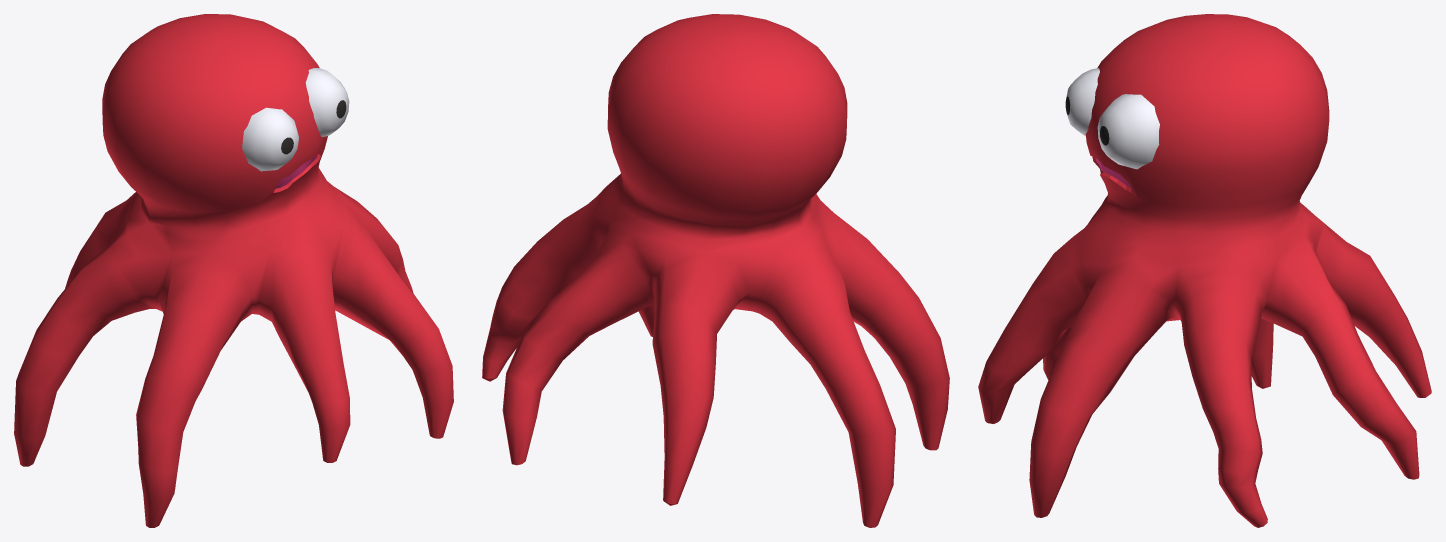
The model's file is Hat_75_01.fbx.
3 views of the same model, side by side, from view 1: azimuth 30°, elevation 25°; view 2: azimuth 150°, elevation 25°; view 3: azimuth 270°, elevation 25° (orthographic). The views are drawn at different scales.
Parts seen in each view (by area): view 1: Hat_75_01; view 2: Hat_75_01; view 3: Hat_75_01.
Boxes of the visible parts, x1,y1,x2,y2 form: Hat_75_01: (14, 14, 453, 527); Hat_75_01: (482, 14, 949, 527); Hat_75_01: (978, 14, 1431, 527).
Bounding box in the file's own units: 38.88 × 39.75 × 36.57.
